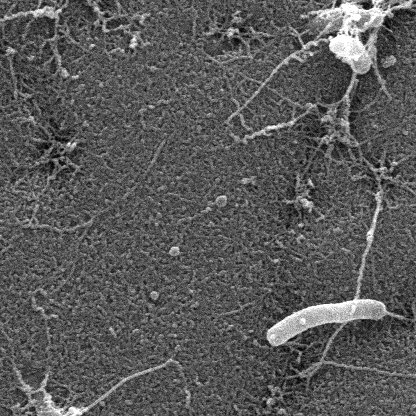cell2surface: (352, 174, 392, 298)
regular: (266, 300, 390, 344)
